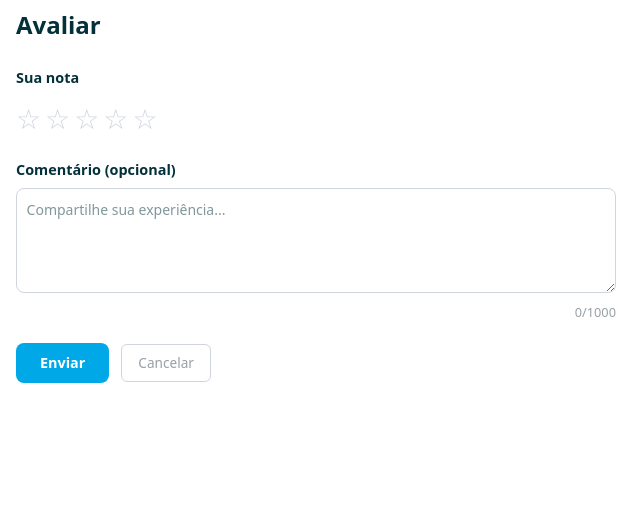
ReviewFormComponent › should show generic error message and retry button on server error
Note: Select rating and submit
What coordinates should you click on to do the following:
click the 5th button with test id "star-btn"
I would click on:
 (145, 118)
Its box is [132, 97, 158, 139].
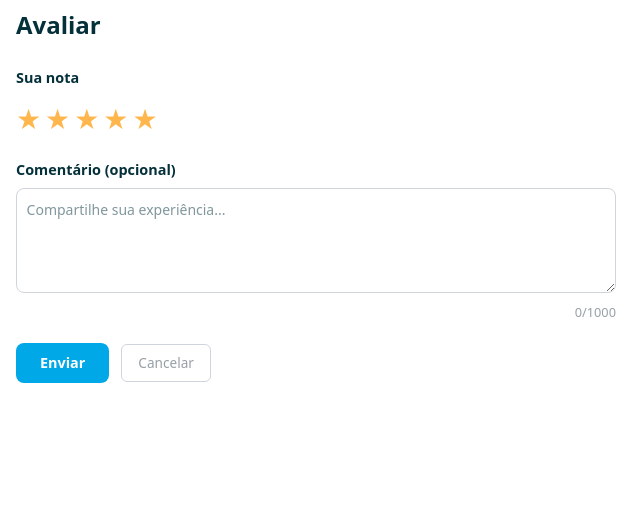
What coordinates should you click on to do the following:
click the button with test id "submit-btn"
I would click on:
 (63, 363)
Its box is [16, 343, 109, 383].
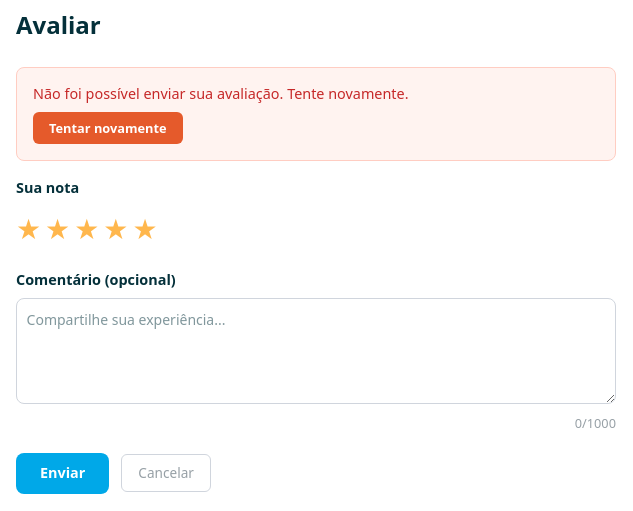
Expected: the element with test id "error-banner" is shown, [16, 67, 616, 161]
Expected: the text "Não foi possível enviar sua avaliação" is shown, [33, 84, 408, 103]
Expected: the button with test id "retry-btn" is shown
Note: Click retry — should submit again
What coordinates should you click on to do the following:
click the button with test id "retry-btn"
I would click on:
 (108, 128)
Its box is [33, 112, 183, 144].
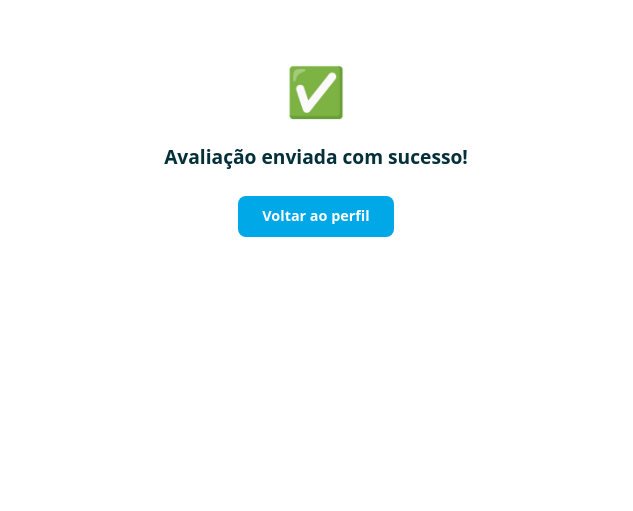
Expected: the element with test id "success-state" is shown, [164, 58, 468, 237]
